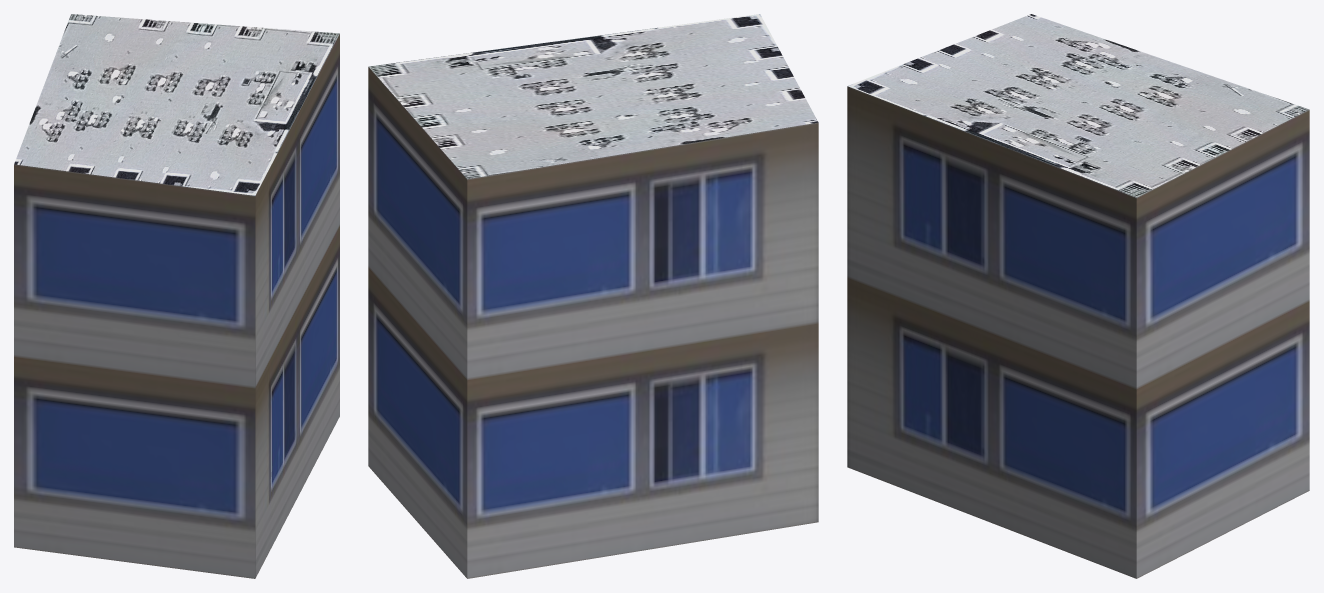
File: ResTex__3001.fbx
3 renders of one model, left to right at view 1: azimuth 30°, elevation 25°; view 2: azimuth 150°, elevation 25°; view 3: azimuth 270°, elevation 25°, orthographic. The views are drawn at different scales.
Parts seen in each view (by area): view 1: CityEngineMaterial_23_m, CityEngineMaterial_4_m; view 2: CityEngineMaterial_23_m, CityEngineMaterial_4_m; view 3: CityEngineMaterial_23_m, CityEngineMaterial_4_m.
Part boxes in pixels (<box>): CityEngineMaterial_23_m: <box>14,33,339,578</box>; CityEngineMaterial_4_m: <box>14,14,339,195</box>; CityEngineMaterial_23_m: <box>368,67,818,578</box>; CityEngineMaterial_4_m: <box>368,14,818,179</box>; CityEngineMaterial_23_m: <box>847,86,1309,578</box>; CityEngineMaterial_4_m: <box>847,14,1309,197</box>.
Size of the model in its own units: 6.21 by 6 by 6.6.
Materials: 2 (2 with a texture image).
